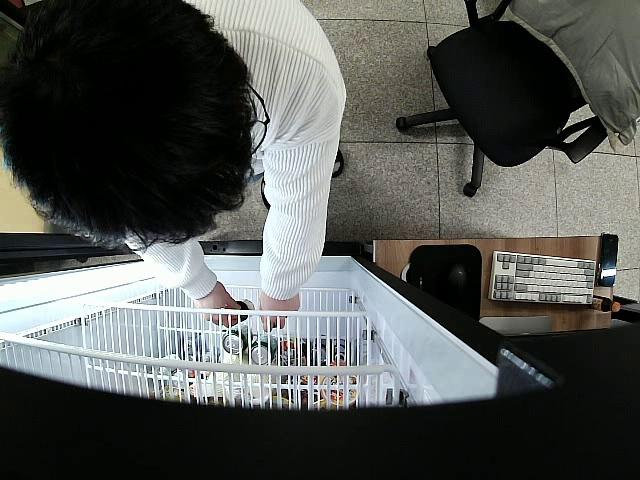00_hand: (196, 284, 242, 327), (259, 292, 301, 332)
17_vita500: (237, 297, 254, 324)
